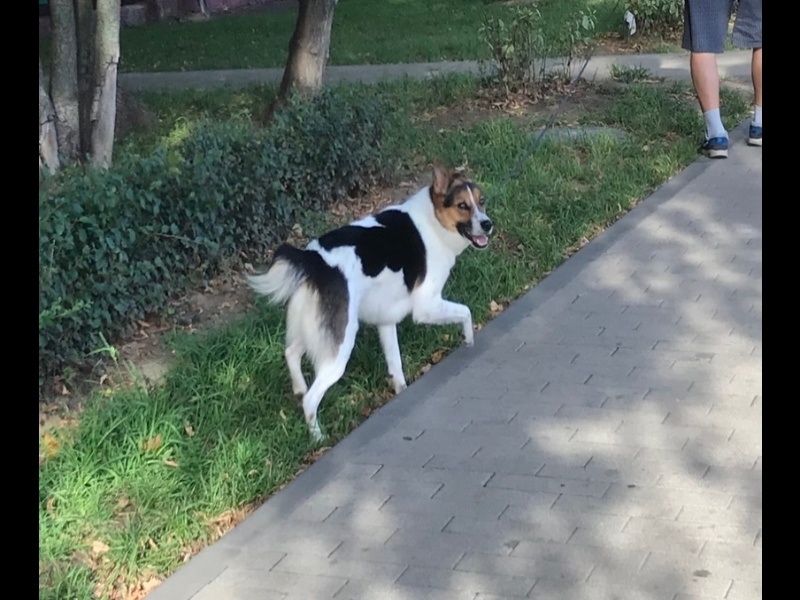dog: (246, 164, 498, 451)
human legs: (686, 1, 764, 162)
